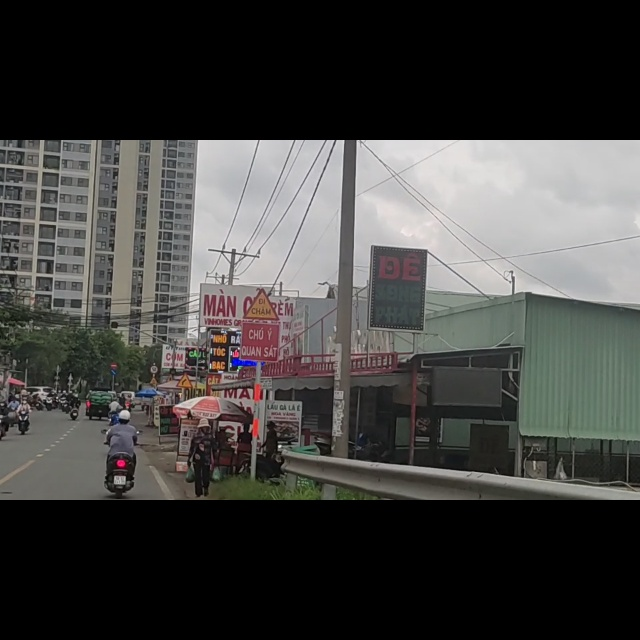bien_nguy_hiem: (245, 267, 278, 319), (176, 412, 193, 442)
